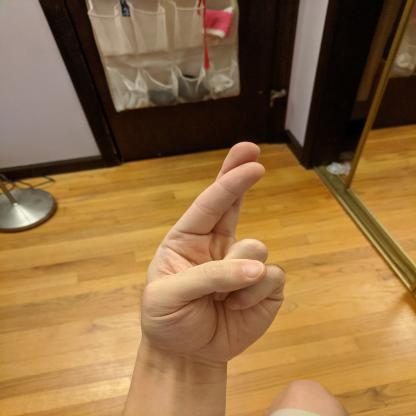R: (134, 138, 289, 366)
